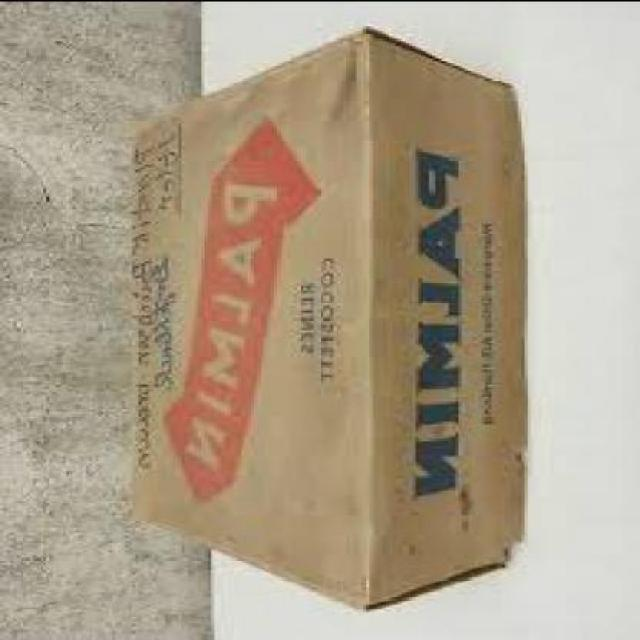CARDBOARD: (121, 25, 524, 606)
